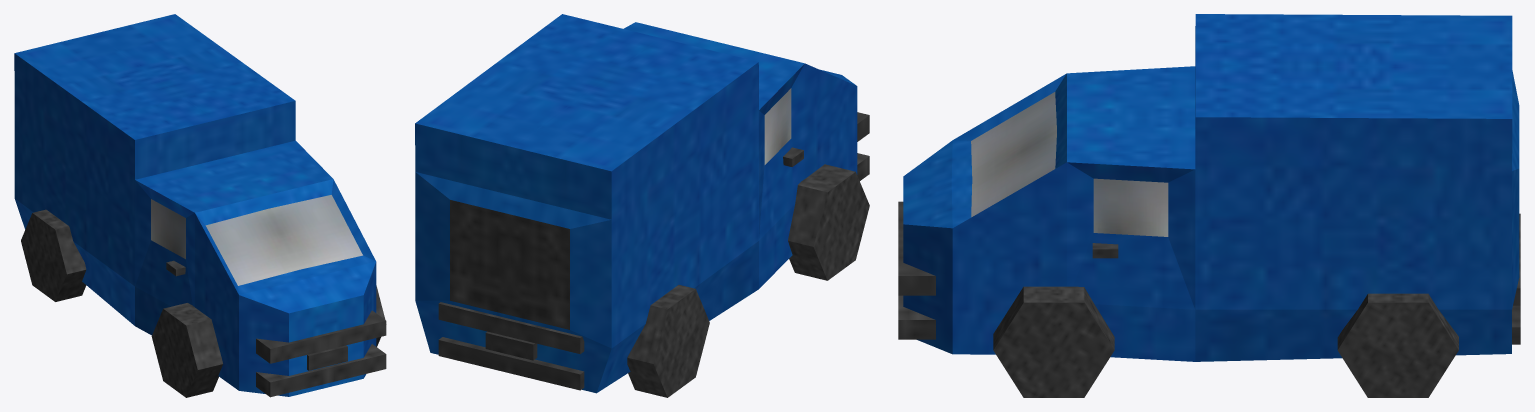
3 views of the same model, side by side, from view 1: azimuth 30°, elevation 25°; view 2: azimuth 150°, elevation 25°; view 3: azimuth 270°, elevation 25° (orthographic). The views are drawn at different scales.
Parts seen in each view (by area): view 1: Cube; view 2: Cube; view 3: Cube.
Part boxes in pixels (box(x1,y1,x2,y2)): Cube: box(14, 14, 386, 397); Cube: box(415, 14, 869, 397); Cube: box(898, 14, 1520, 397).
Bounding box in the file's own units: 473 × 494 × 1026.
Materials: 1 (1 with a texture image).
